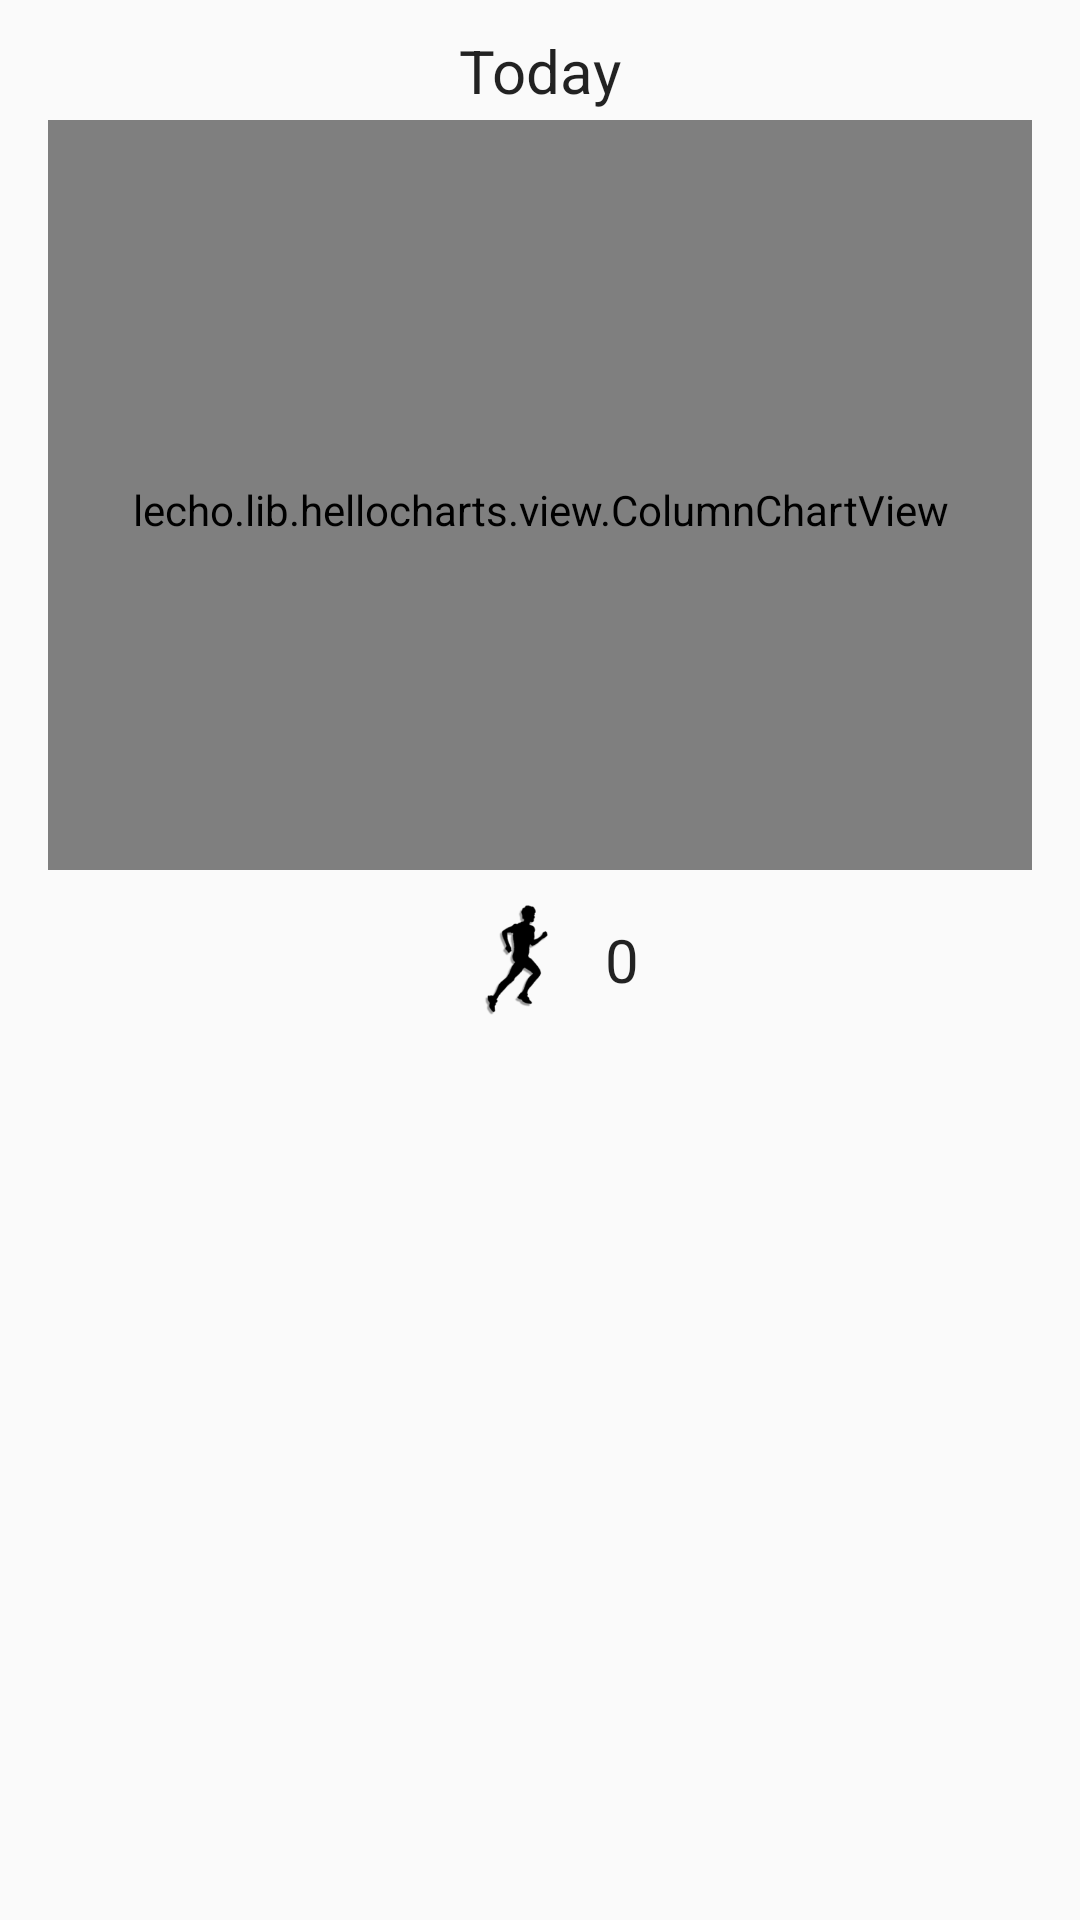

Icon bounding boxes for this 1080px x 1920px phone screenshot, format [x1, y1, x2, y2]:
day sport: [485, 905, 548, 1014]
